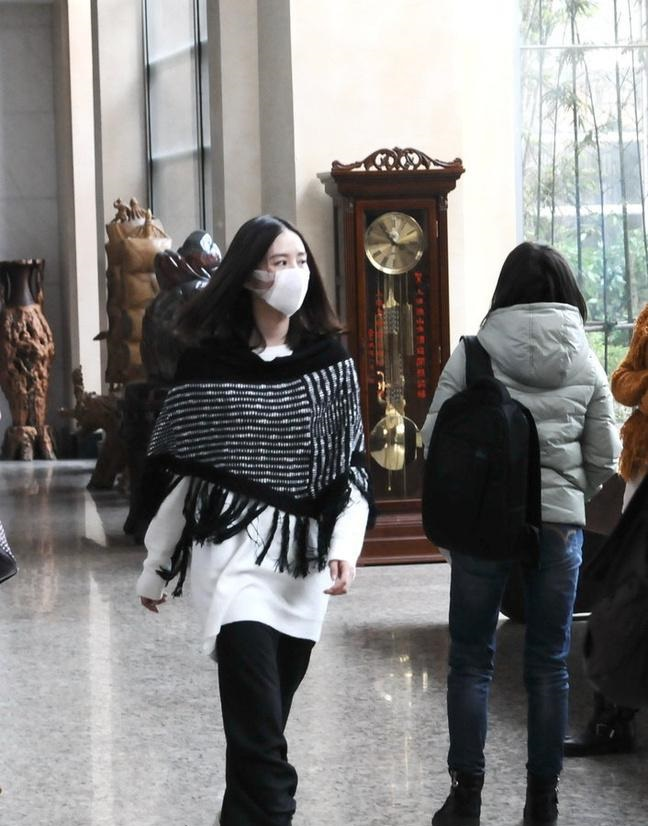face_mask: (258, 232, 309, 316)
